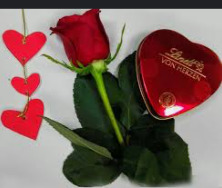RedRose: (48, 9, 119, 75)
